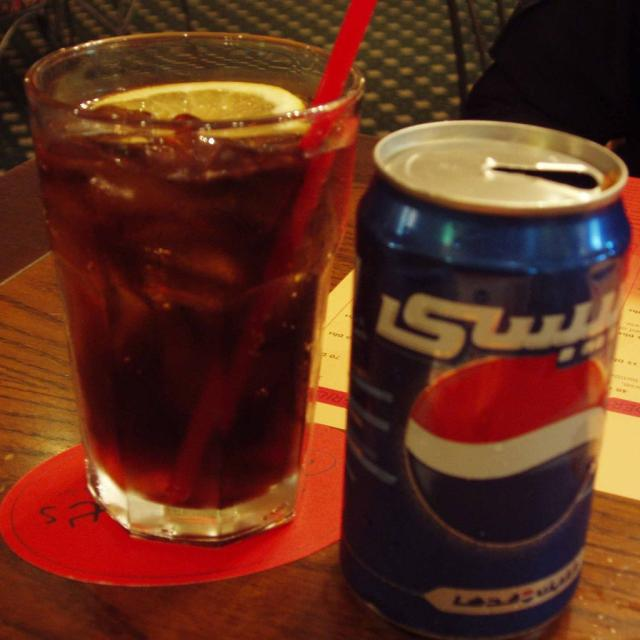pepsi: (399, 356, 610, 556)
